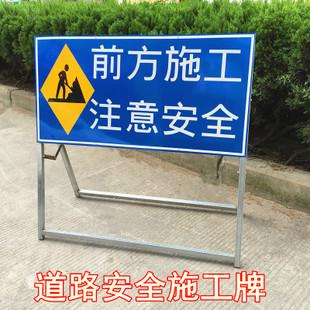sign: (34, 37, 254, 264)
